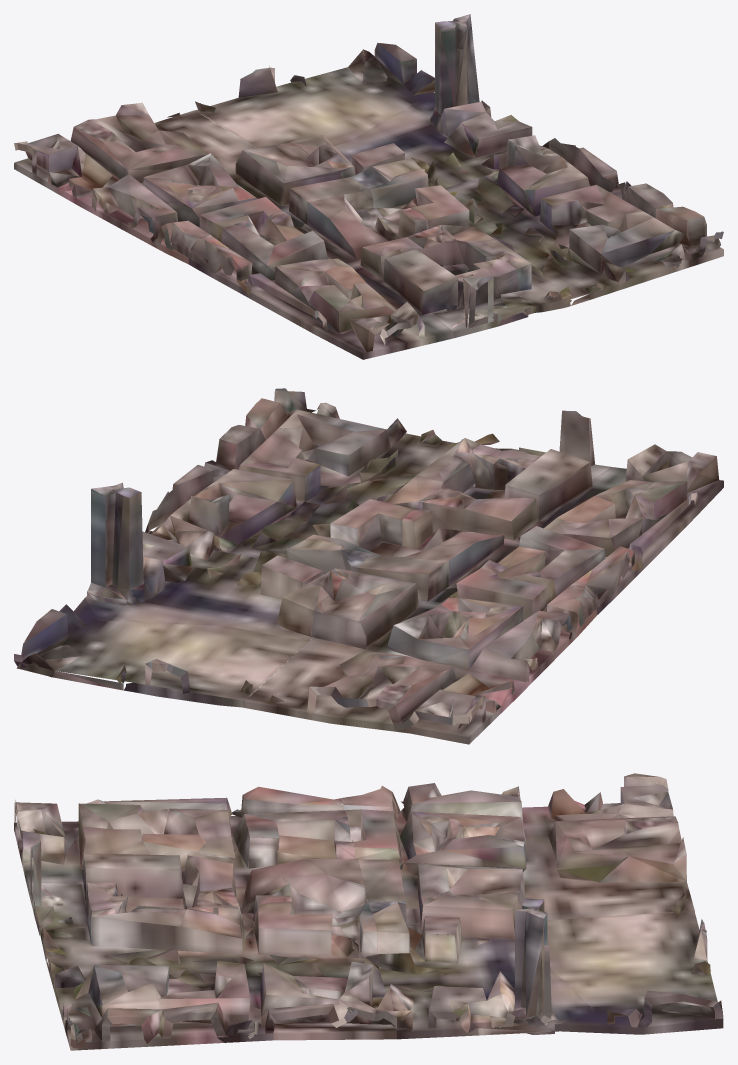
3 renders of one model, top to bottom at view 1: azimuth 30°, elevation 25°; view 2: azimuth 150°, elevation 25°; view 3: azimuth 270°, elevation 25°, orthographic. The views are drawn at different scales.
Visible parts, largest first — view 1: Mesh_0; view 2: Mesh_0; view 3: Mesh_0.
Boxes of the visible parts, x1,y1,x2,y2 form: Mesh_0: (14, 14, 723, 359); Mesh_0: (14, 388, 723, 744); Mesh_0: (14, 773, 723, 1050).
Bounding box in the file's own units: 532 × 124 × 660.
2 materials, 2 textured.
